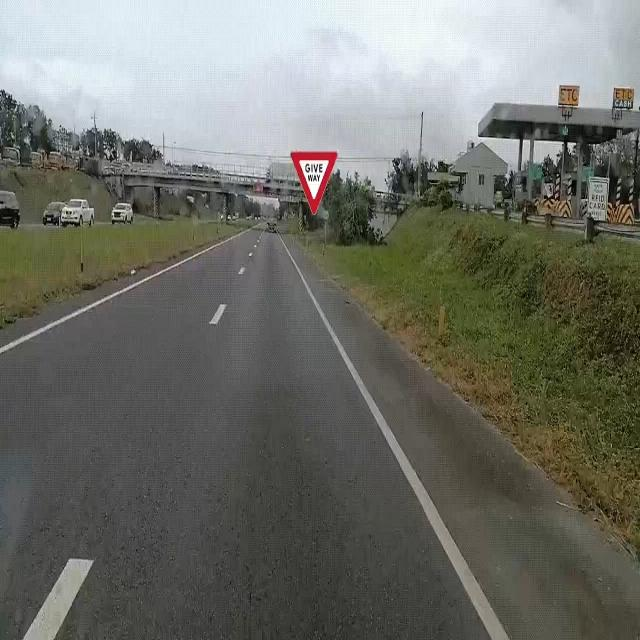Ceder-le-Passage: (288, 143, 342, 229)
